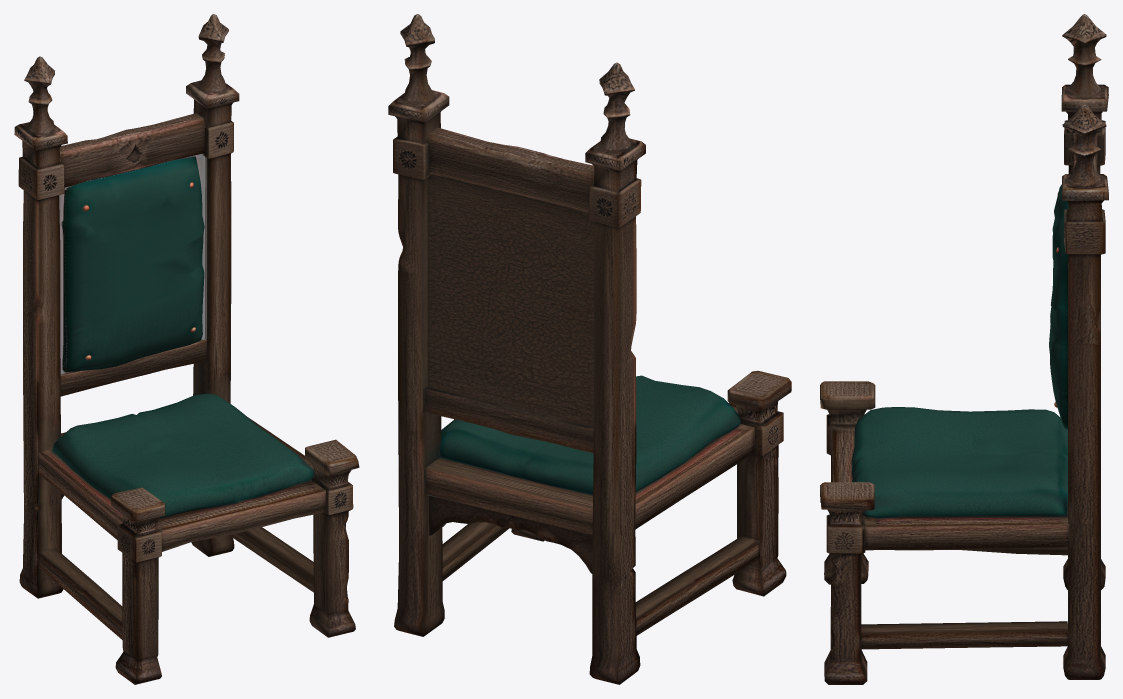
The model's file is sedia.glb.
The picture shows the model from 3 angles, left to right: view 1: azimuth 30°, elevation 25°; view 2: azimuth 150°, elevation 25°; view 3: azimuth 270°, elevation 25°; orthographic projection. The views are drawn at different scales.
Parts seen in each view (by area): view 1: sedia; view 2: sedia; view 3: sedia.
Boxes of the visible parts, x1,y1,x2,y2 form: sedia: (14, 14, 359, 684); sedia: (388, 14, 791, 684); sedia: (820, 14, 1108, 684).
Size of the model in its own units: 0.4468 by 0.9995 by 0.4585.
1 material, 1 textured.
